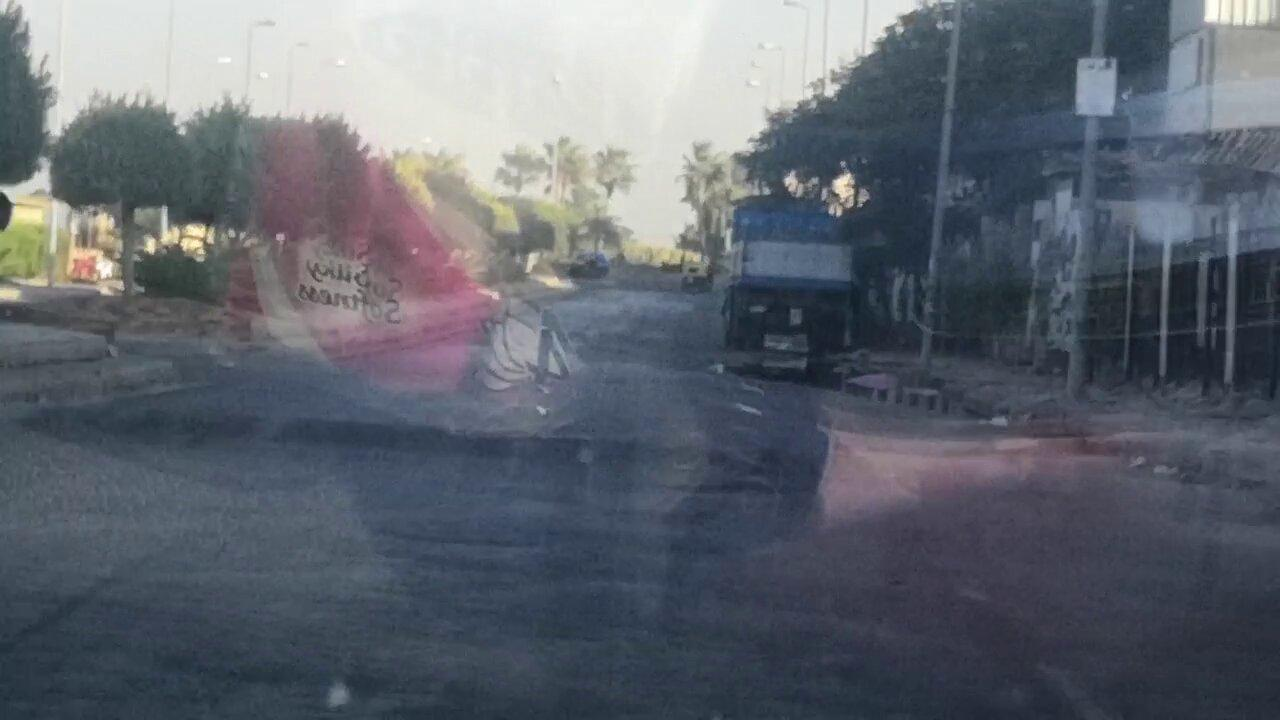Bump: (1, 405, 1279, 523)
